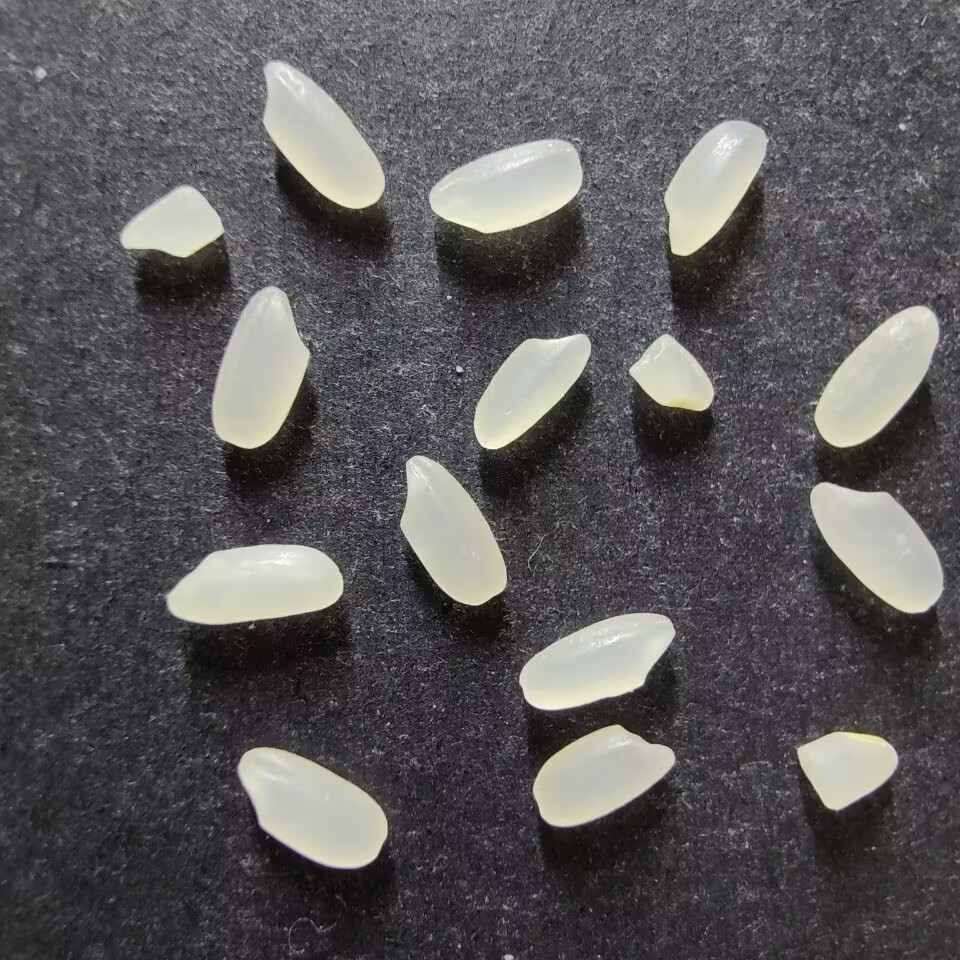broken: (796, 731, 898, 811), (119, 184, 225, 259), (628, 333, 715, 411)
rice: (261, 60, 385, 209), (237, 747, 388, 869), (809, 480, 945, 614), (812, 305, 938, 448), (530, 714, 682, 832), (398, 455, 507, 606), (210, 285, 310, 449), (518, 612, 676, 710), (428, 138, 583, 234), (662, 118, 767, 257), (166, 544, 344, 625), (472, 333, 592, 451)
